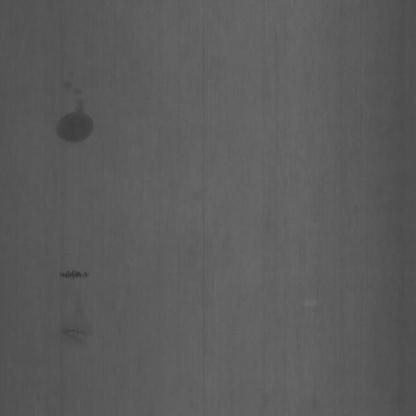oil_spot: (52, 84, 96, 157), (51, 261, 94, 285)
